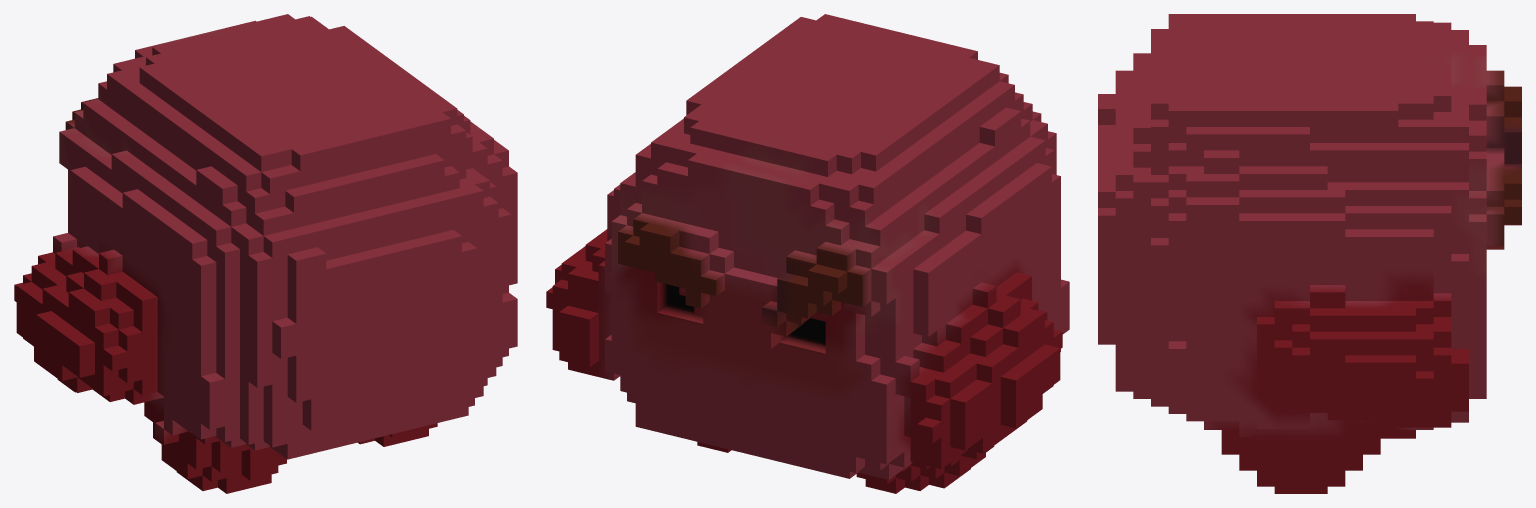
Rendered from enemy_base.glb.
3 views of the same model, side by side, from view 1: azimuth 30°, elevation 25°; view 2: azimuth 150°, elevation 25°; view 3: azimuth 270°, elevation 25° (orthographic).
Visible parts, largest first — view 1: Cube.001; view 2: Cube.001; view 3: Cube.001.
Part boxes in pixels (left/top/right/bottom): Cube.001: left=14, top=14, right=517, bottom=493; Cube.001: left=546, top=14, right=1069, bottom=493; Cube.001: left=1098, top=14, right=1521, bottom=493.
Size of the model in its own units: 2.72 by 2.16 by 2.25.
1 material, 1 textured.
